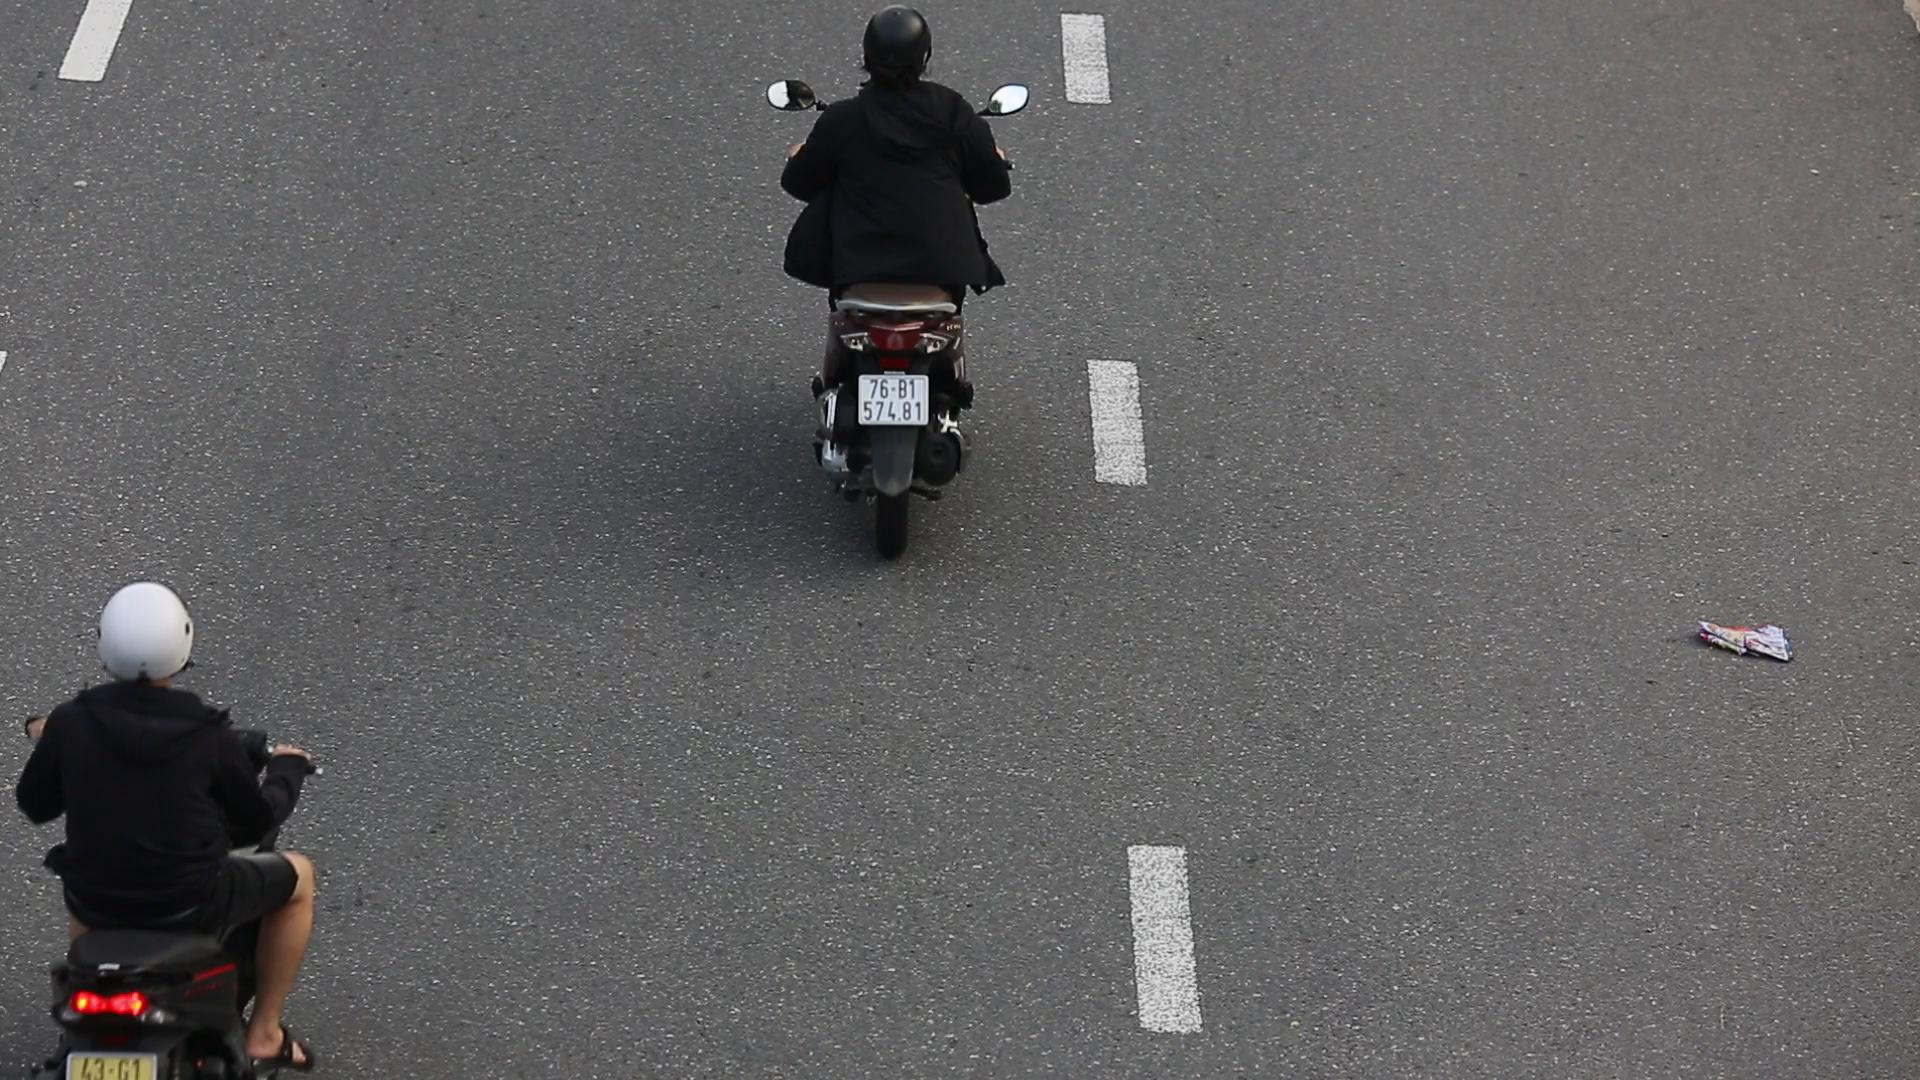motobike: (757, 0, 1055, 564)
